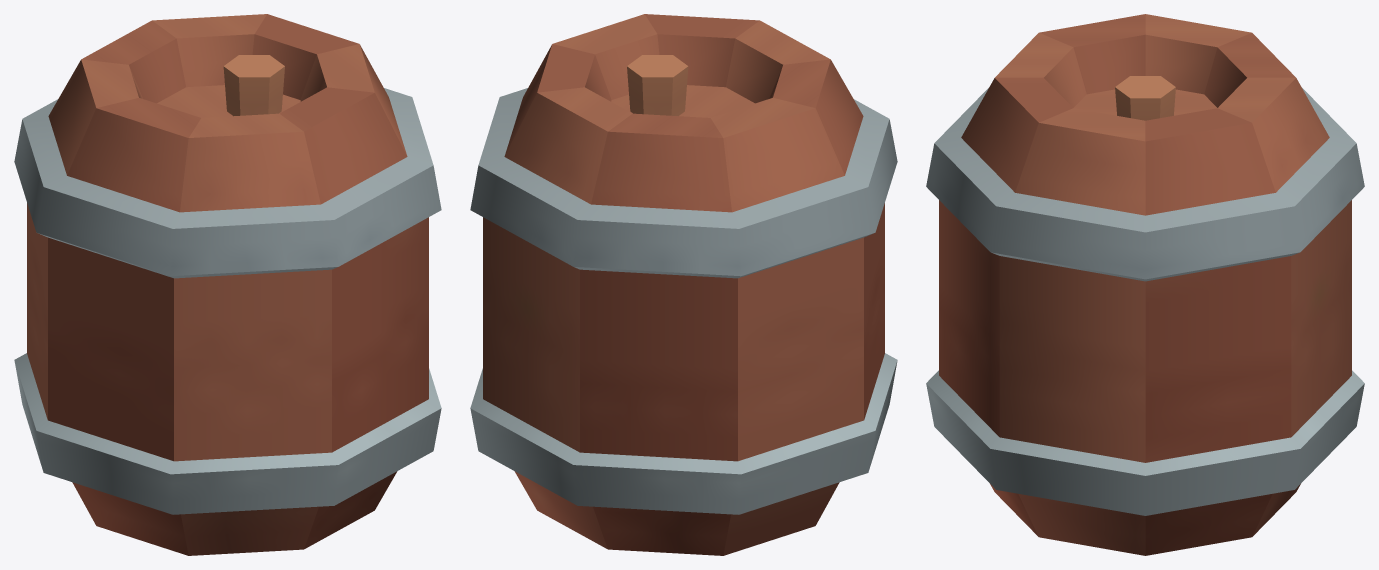
Rendered from barrel.glb.
The picture shows the model from 3 angles, left to right: view 1: azimuth 30°, elevation 25°; view 2: azimuth 150°, elevation 25°; view 3: azimuth 270°, elevation 25°; orthographic projection.
Parts seen in each view (by area): view 1: barrel; view 2: barrel; view 3: barrel.
Boxes of the visible parts, <box> form: barrel: <box>14,14,441,555</box>; barrel: <box>470,14,897,555</box>; barrel: <box>926,14,1364,555</box>.
Size of the model in its own units: 0.2015 by 0.2117 by 0.2015.
Materials: 1 (1 with a texture image).
